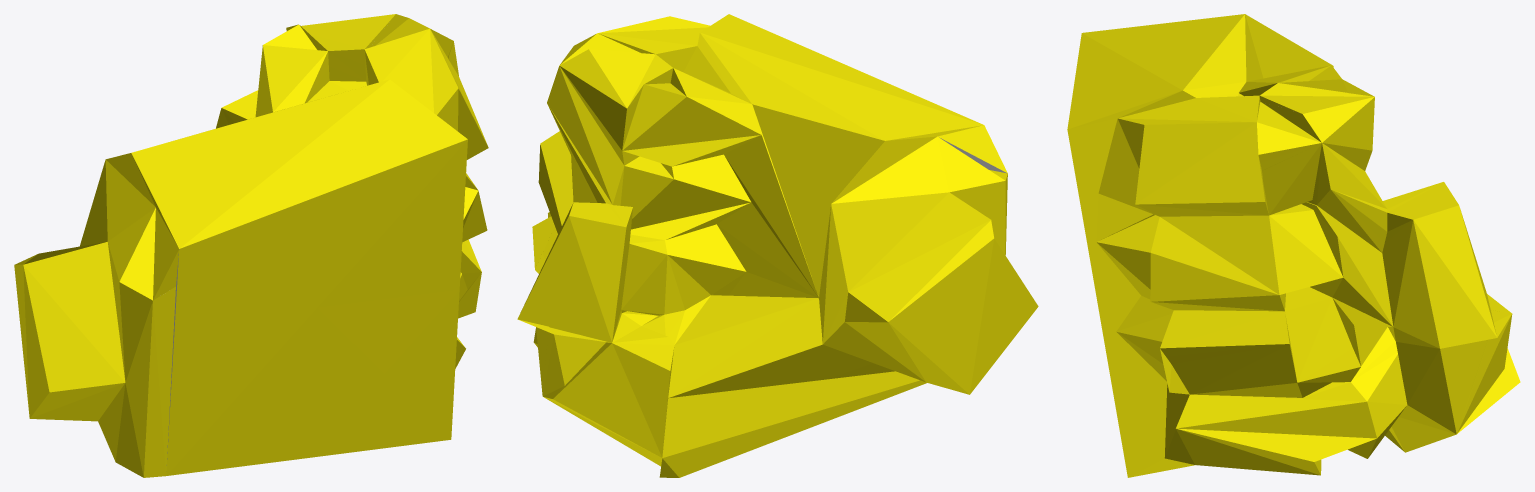
File: fistresult3.obj
The picture shows the model from 3 angles, left to right: view 1: azimuth 30°, elevation 25°; view 2: azimuth 150°, elevation 25°; view 3: azimuth 270°, elevation 25°; orthographic projection. The views are drawn at different scales.
Parts seen in each view (by area): view 1: fist; view 2: fist; view 3: fist.
Part boxes in pixels (<box>): fist: <box>14,14,488,477</box>; fist: <box>517,14,1038,477</box>; fist: <box>1067,14,1520,477</box>.
Bounding box in the file's own units: 19.22 × 15.15 × 15.35.
2 materials, 1 textured.
